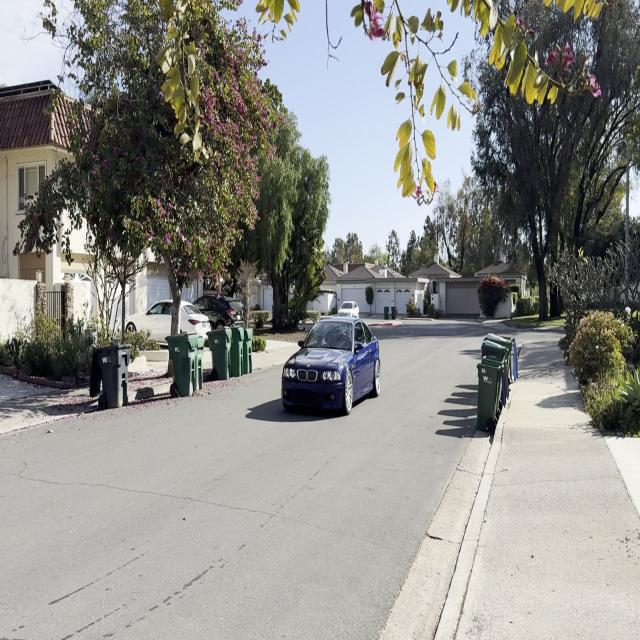Carbeetle: (268, 307, 389, 420)
